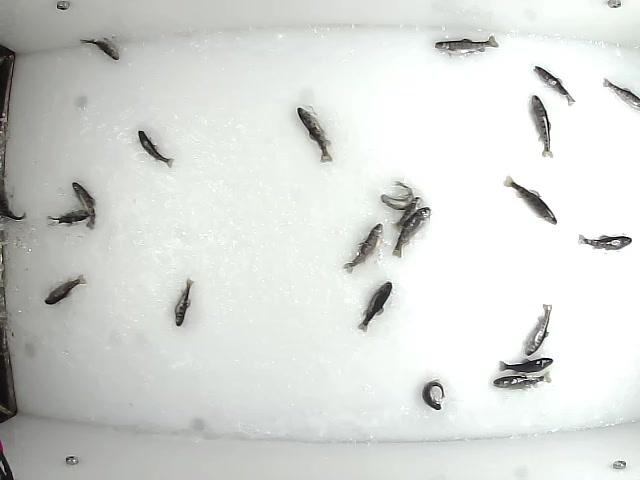fish: (496, 172, 561, 225), (388, 206, 435, 261), (343, 221, 383, 276), (355, 280, 395, 334), (297, 107, 334, 164), (531, 63, 576, 107), (524, 298, 556, 357), (529, 92, 554, 158), (136, 128, 175, 170), (433, 36, 504, 59), (41, 272, 87, 307), (390, 195, 424, 235), (73, 180, 98, 230), (172, 276, 195, 329), (379, 178, 417, 210), (576, 233, 634, 252), (79, 35, 121, 61), (46, 210, 93, 229), (419, 376, 445, 410)
